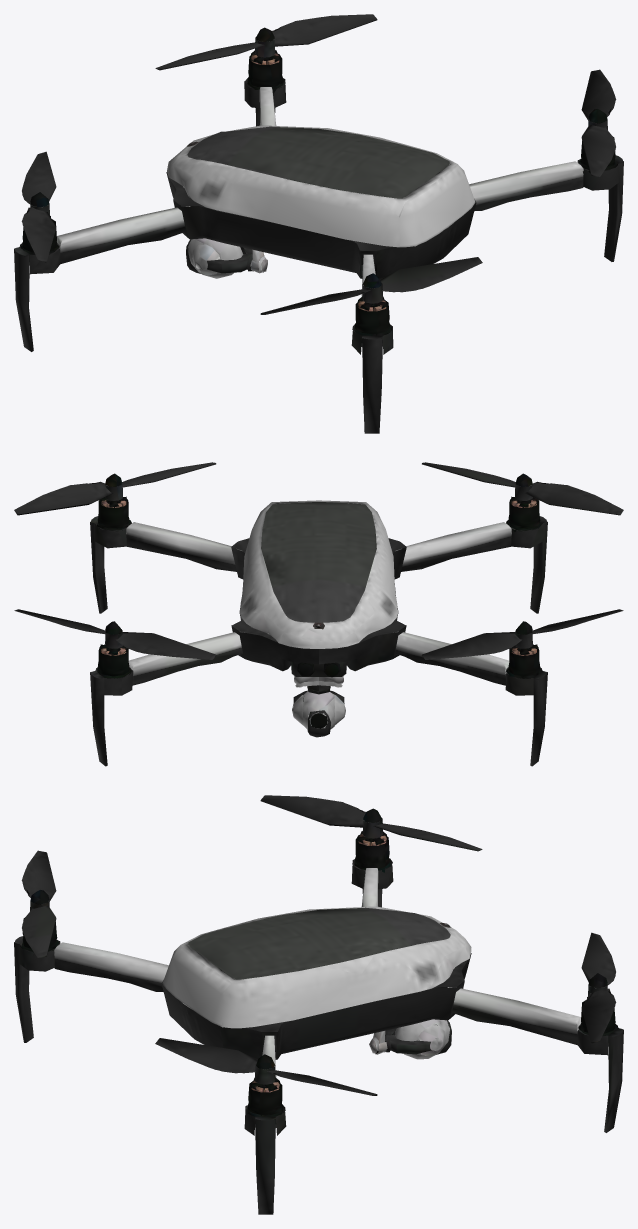
Rendered from item.drone.scan.glb.
3 renders of one model, top to bottom at view 1: azimuth 30°, elevation 25°; view 2: azimuth 150°, elevation 25°; view 3: azimuth 270°, elevation 25°, orthographic. The views are drawn at different scales.
Visible parts, largest first — view 1: upper_body_113; view 2: upper_body_113; view 3: upper_body_113.
Boxes of the visible parts, box(x1,y1,x2,y2) form: upper_body_113: box(14, 14, 623, 433); upper_body_113: box(14, 462, 623, 766); upper_body_113: box(14, 795, 623, 1214).
Bounding box in the file's own units: 1.02 × 0.2516 × 0.8737.
Materials: 1 (1 with a texture image).
